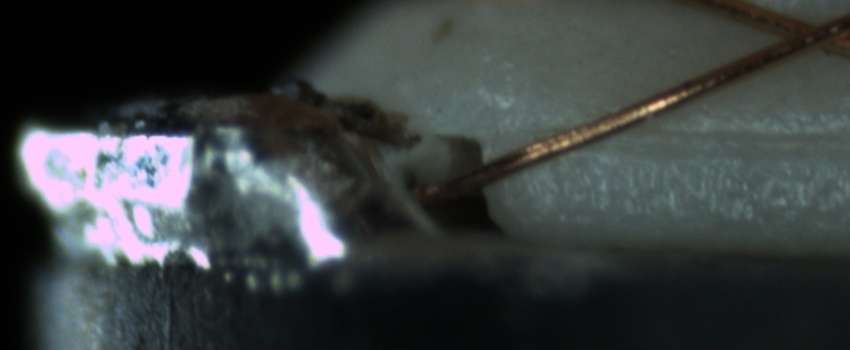CL: (764, 6, 846, 58)
DL: (565, 103, 844, 171)
